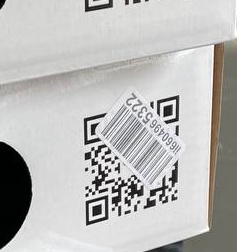1d: (101, 103, 174, 181)
